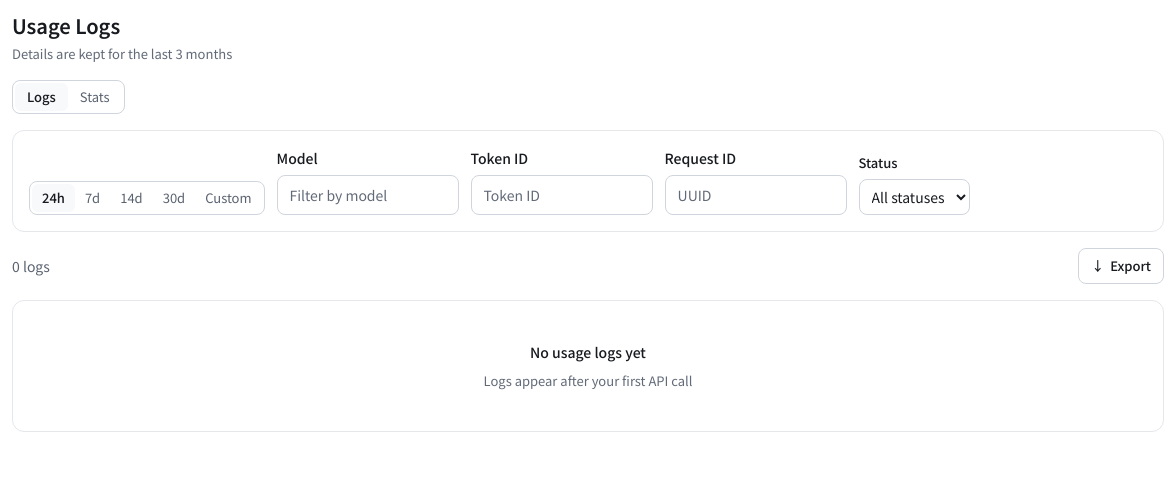
Scenario: usage logs list › renders the unfiltered and filtered empty states
Expected: the text "No usage logs yet" is shown, 530,341 -> 646,363
Select "Failed" in the dropdown labelled "Status". click: (914, 197)
box: 858,179 -> 970,215
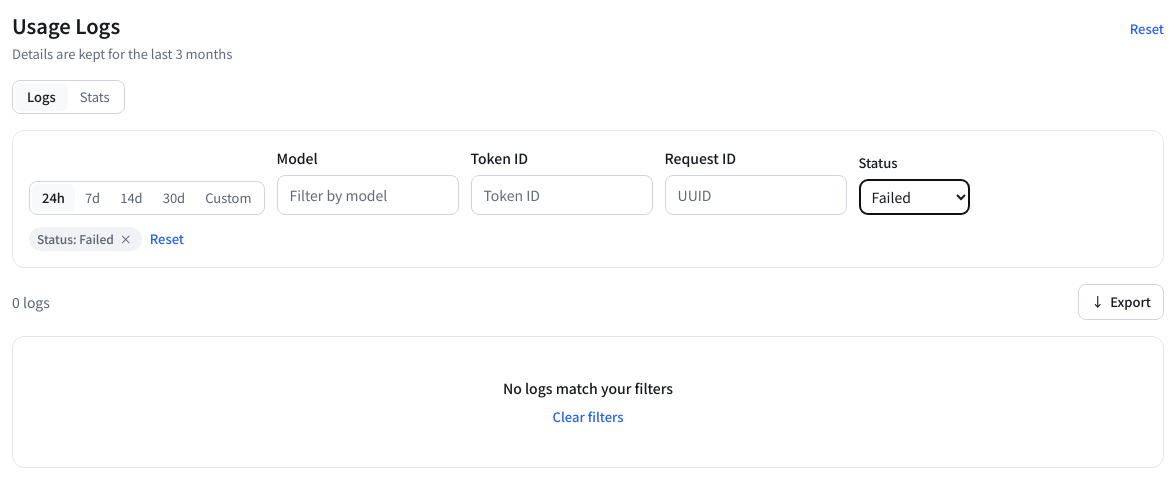
Result: the text "No logs match your filters" is shown at 503,377 -> 673,399
Click the button "Clear filters". click: (588, 417)
box: 553,407 -> 624,427
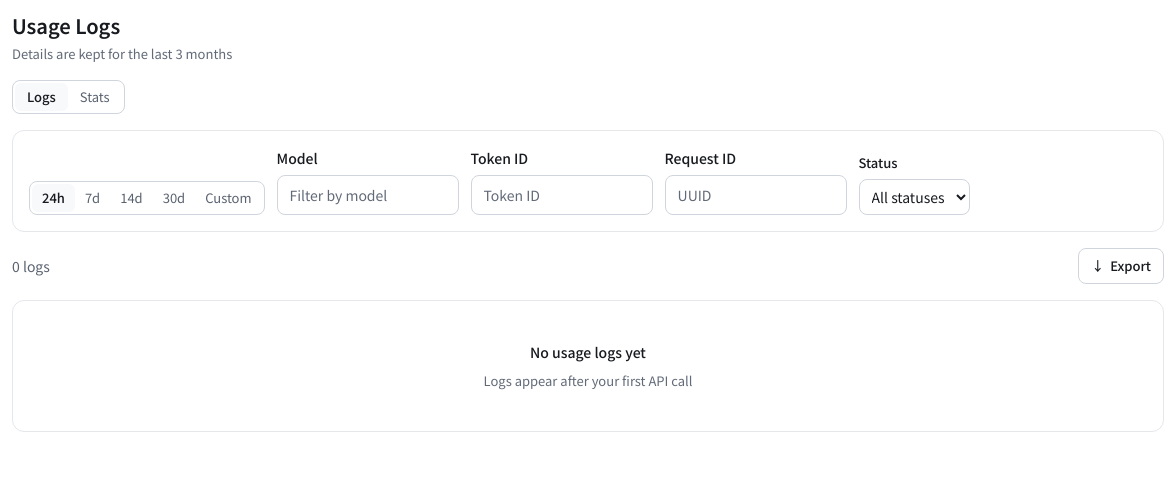
Result: the text "No usage logs yet" is shown at 530,341 -> 646,363
